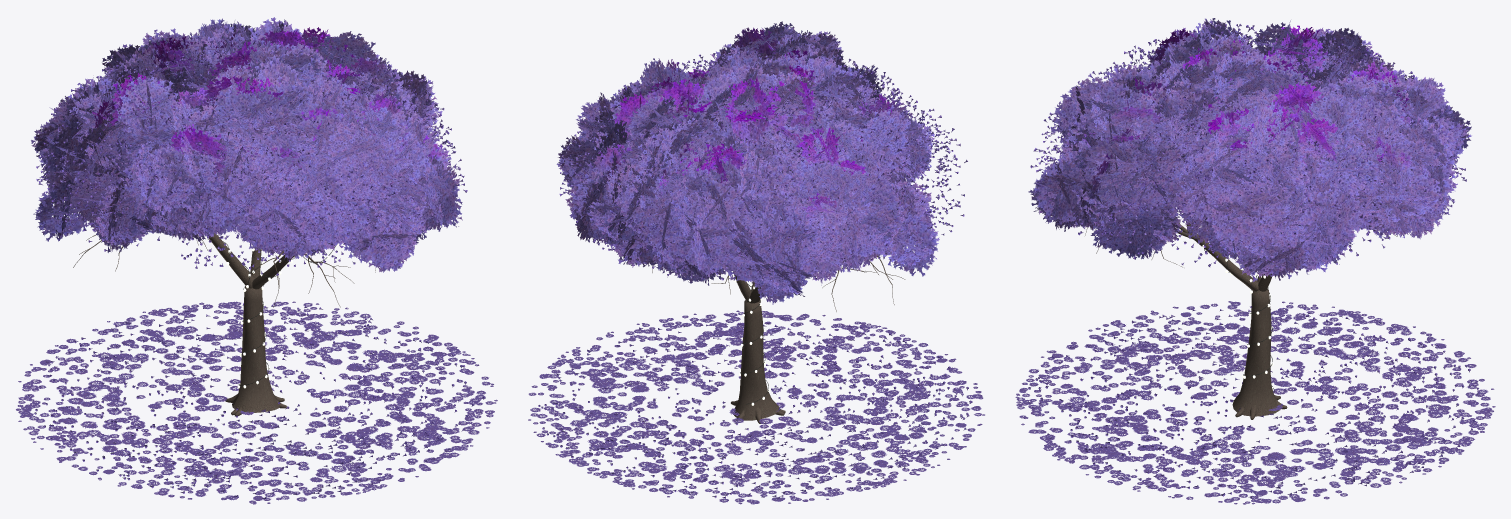
Rendered from w3_flora_jacaranda.glb.
3 renders of one model, left to right at view 1: azimuth 30°, elevation 25°; view 2: azimuth 150°, elevation 25°; view 3: azimuth 270°, elevation 25°, orthographic. The views are drawn at different scales.
Visible parts, largest first — view 1: w3_flora_jacaranda; view 2: w3_flora_jacaranda; view 3: w3_flora_jacaranda.
Part boxes in pixels (bbox=[...]): w3_flora_jacaranda: bbox=[16, 17, 497, 504]; w3_flora_jacaranda: bbox=[528, 21, 984, 504]; w3_flora_jacaranda: bbox=[1015, 18, 1495, 504].
Bounding box in the file's own units: 5.87 × 4.86 × 5.82.
Materials: 5 (2 with a texture image).
